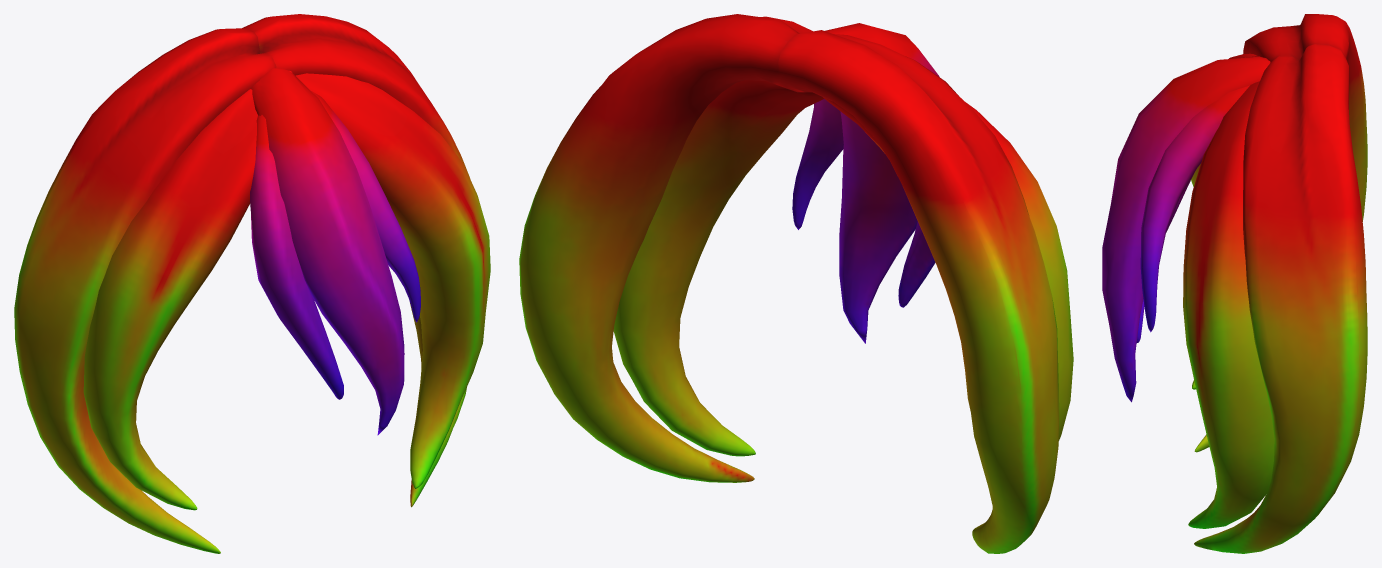
File: HairFront_Windy.obj
3 views of the same model, side by side, from view 1: azimuth 30°, elevation 25°; view 2: azimuth 150°, elevation 25°; view 3: azimuth 270°, elevation 25° (orthographic). The views are drawn at different scales.
Parts seen in each view (by area): view 1: HairFront_Windy_0; view 2: HairFront_Windy_0; view 3: HairFront_Windy_0.
Boxes of the visible parts, <box> form: HairFront_Windy_0: <box>14,14,490,553</box>; HairFront_Windy_0: <box>519,14,1073,553</box>; HairFront_Windy_0: <box>1102,14,1367,553</box>.
Size of the model in its own units: 0.2298 by 0.228 by 0.1194.
1 material, 1 textured.
